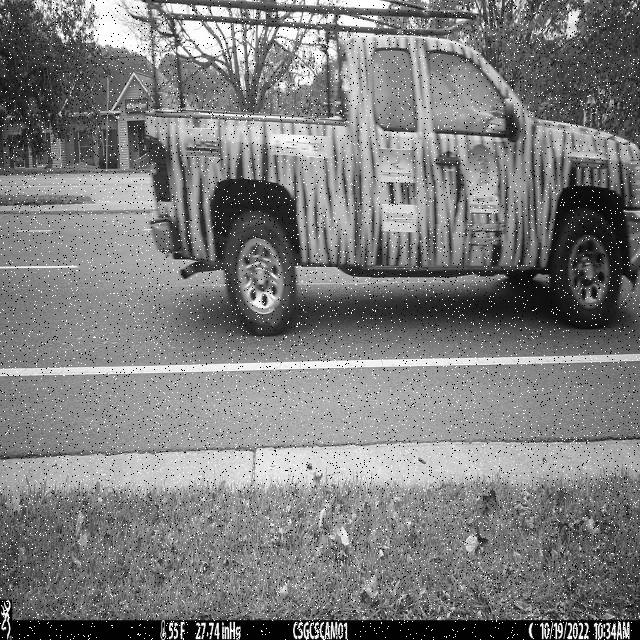Pickup: (140, 0, 640, 338)
